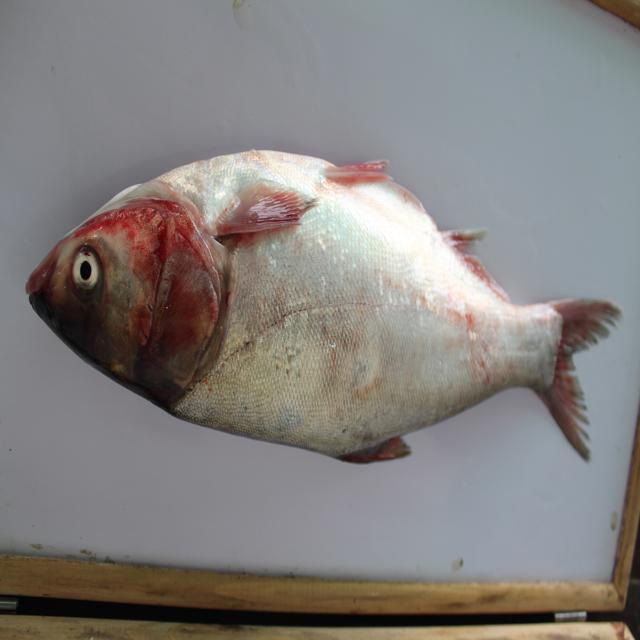SilverCarp: (34, 130, 626, 470)
